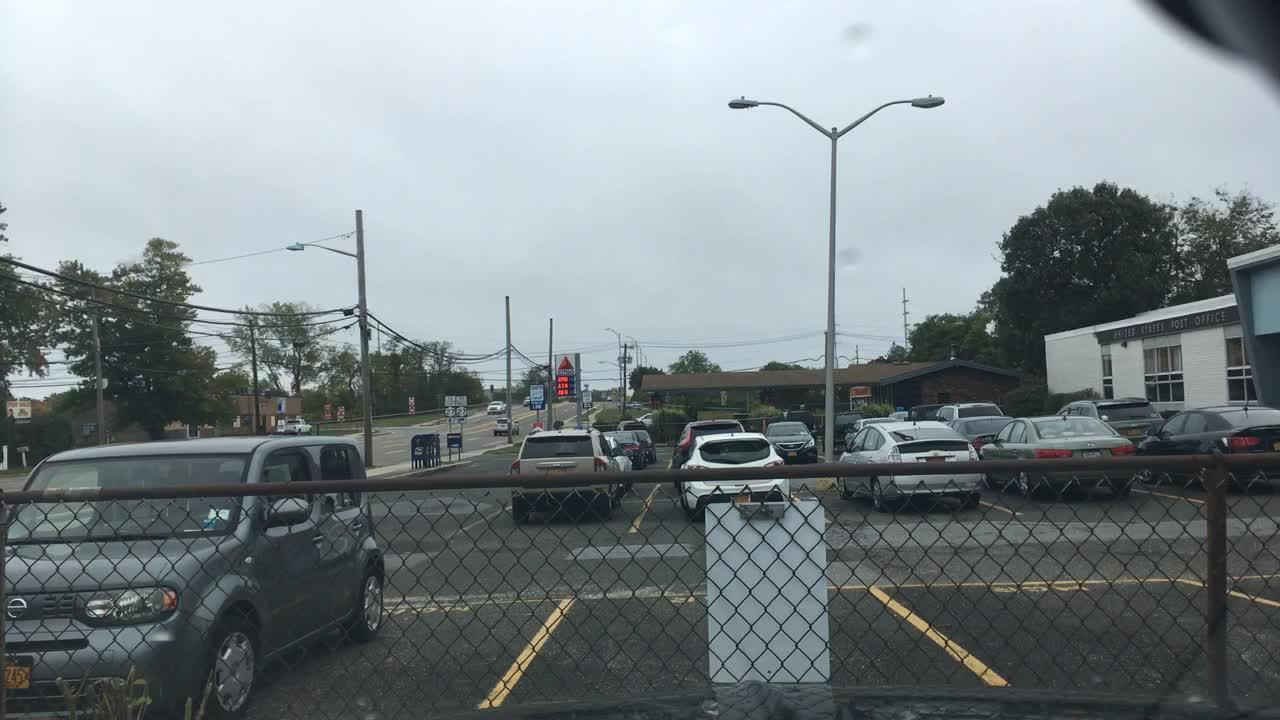Nissan: (0, 594, 33, 624)
